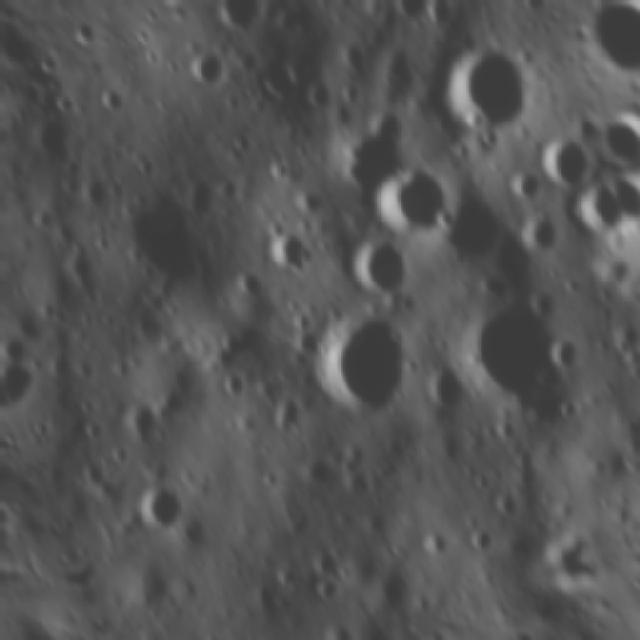crater: (296, 298, 435, 437), (102, 172, 227, 308), (425, 22, 550, 156), (455, 293, 570, 421), (364, 157, 459, 249), (424, 193, 519, 284), (332, 231, 419, 317), (531, 130, 600, 201), (564, 176, 628, 249), (23, 109, 86, 180), (132, 477, 196, 541), (254, 222, 318, 286), (418, 358, 476, 425), (248, 56, 310, 118), (514, 204, 574, 268), (112, 392, 173, 454), (180, 42, 237, 100), (260, 389, 317, 443), (292, 68, 346, 124), (220, 258, 269, 312), (0, 356, 45, 413), (293, 450, 341, 502), (504, 167, 550, 215), (304, 573, 350, 616), (544, 329, 584, 374), (212, 364, 255, 405), (484, 486, 525, 529), (413, 524, 455, 565), (463, 523, 502, 566), (420, 0, 468, 34), (386, 0, 434, 25), (226, 634, 266, 640), (0, 267, 3, 318)
